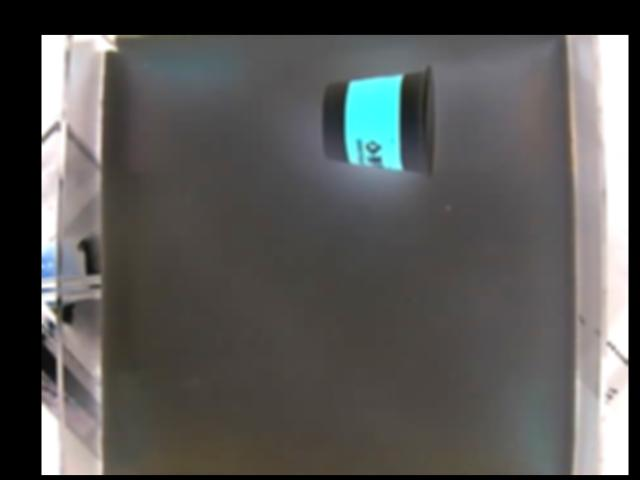Cup: (321, 65, 444, 175)
